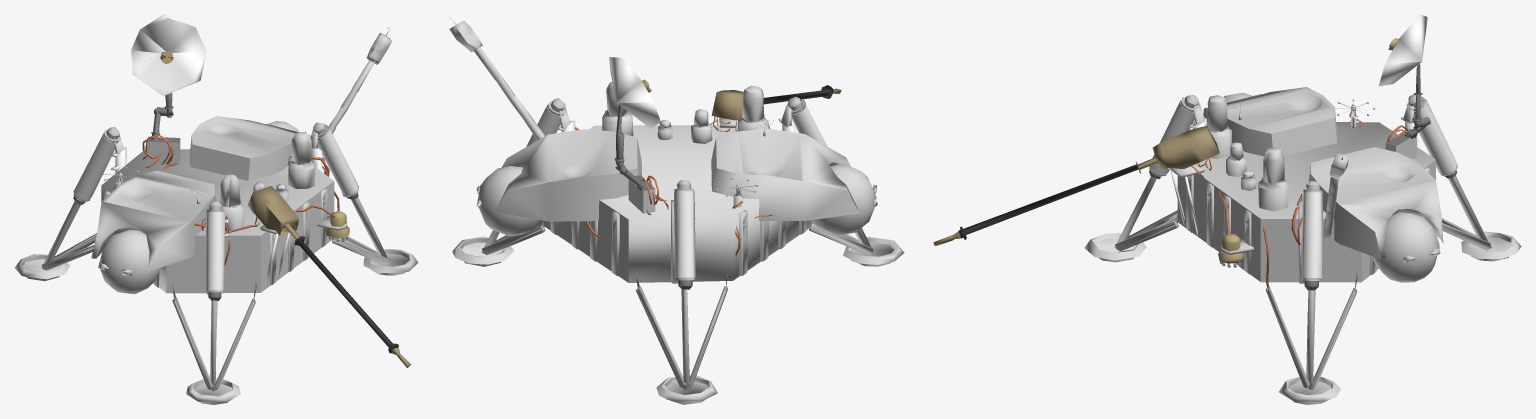
The model's file is viking_lod2.glb.
3 renders of one model, left to right at view 1: azimuth 30°, elevation 25°; view 2: azimuth 150°, elevation 25°; view 3: azimuth 270°, elevation 25°, orthographic. The views are drawn at different scales.
Visible parts, largest first — view 1: viking_lod2; view 2: viking_lod2; view 3: viking_lod2.
Boxes of the visible parts, bbox=[...] form: viking_lod2: bbox=[14, 14, 418, 404]; viking_lod2: bbox=[449, 14, 904, 404]; viking_lod2: bbox=[933, 14, 1521, 404].
Bounding box in the file's own units: 2.55 × 1.83 × 3.4.
